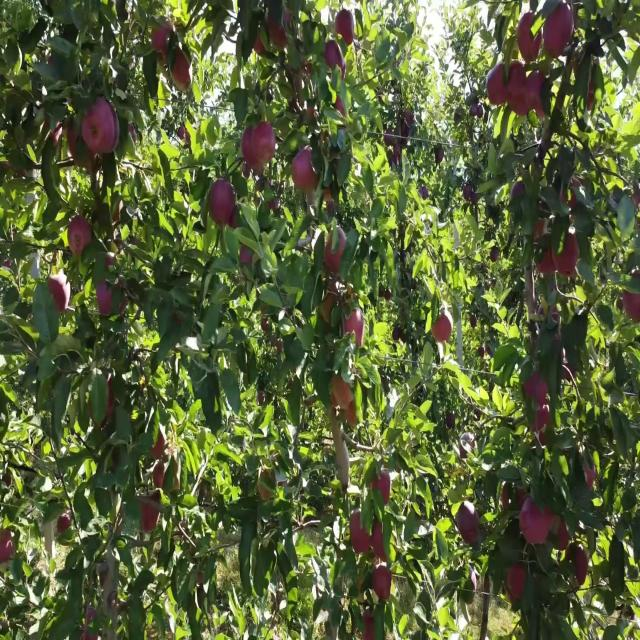apple: (84, 99, 120, 156), (520, 497, 556, 548), (544, 7, 576, 59), (88, 376, 116, 432), (68, 120, 95, 169), (212, 177, 236, 228), (292, 149, 319, 194), (100, 277, 128, 320), (352, 511, 379, 555), (268, 7, 294, 52), (68, 213, 93, 258), (620, 270, 640, 325), (520, 14, 541, 64), (556, 234, 580, 277), (532, 405, 554, 448), (152, 21, 175, 62), (488, 63, 509, 107), (324, 234, 347, 274), (368, 469, 392, 507), (460, 504, 480, 548), (256, 120, 276, 164), (512, 71, 530, 119), (172, 49, 192, 92), (508, 561, 528, 603), (332, 376, 355, 411), (560, 177, 583, 212), (324, 42, 346, 78), (512, 78, 531, 119), (244, 127, 262, 169), (524, 376, 548, 407), (48, 277, 68, 313), (344, 312, 364, 348), (372, 568, 392, 603), (532, 71, 546, 121), (156, 462, 180, 491), (324, 291, 340, 334), (432, 312, 452, 345), (96, 284, 114, 320), (336, 14, 356, 46), (140, 504, 160, 533), (536, 248, 556, 277), (0, 533, 16, 564), (576, 547, 589, 585), (296, 63, 313, 92), (372, 533, 389, 562), (260, 469, 275, 501), (48, 120, 65, 148), (560, 519, 573, 555), (528, 71, 539, 112), (156, 462, 171, 491), (152, 433, 167, 460), (512, 63, 527, 89), (84, 611, 98, 638), (584, 462, 597, 491), (460, 440, 476, 462), (248, 156, 264, 178), (364, 611, 376, 639), (500, 483, 511, 512), (252, 35, 266, 57), (464, 184, 477, 206), (536, 220, 547, 245), (228, 206, 239, 231), (60, 511, 72, 533), (260, 305, 269, 334), (516, 490, 529, 510), (240, 248, 255, 265), (512, 184, 527, 201), (324, 191, 335, 213), (588, 85, 596, 112), (180, 127, 192, 144), (348, 405, 357, 427), (444, 412, 456, 428), (304, 106, 316, 121), (336, 99, 346, 116)
